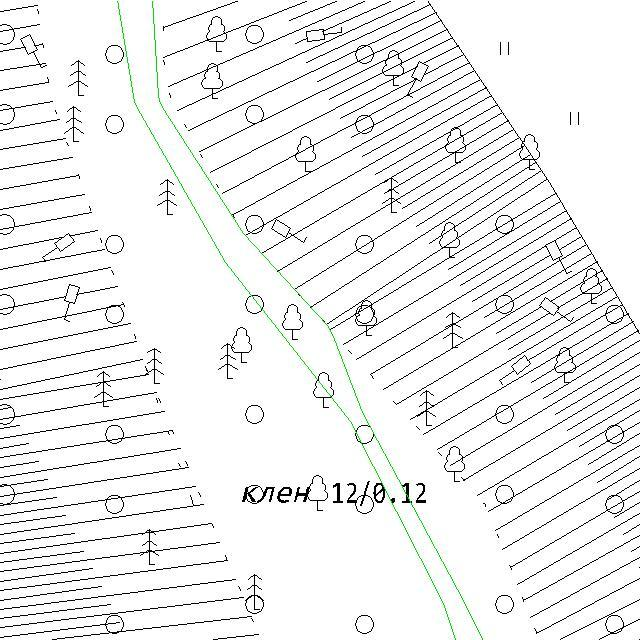sing: (497, 353, 533, 387), (39, 231, 77, 263), (544, 238, 574, 277), (270, 217, 308, 247), (19, 33, 48, 71), (538, 296, 575, 324), (405, 61, 431, 99), (61, 282, 82, 324), (305, 24, 345, 44)
tree: (578, 266, 604, 305), (380, 48, 406, 87), (292, 134, 318, 173), (442, 444, 467, 484), (92, 366, 115, 408), (243, 571, 266, 613), (62, 104, 86, 144), (306, 473, 330, 513), (200, 62, 225, 100), (204, 15, 229, 53), (312, 369, 335, 410), (280, 302, 304, 341), (354, 298, 378, 337), (144, 345, 166, 387), (67, 58, 90, 98), (216, 342, 240, 380), (230, 326, 254, 364), (553, 346, 577, 384), (437, 221, 461, 259), (443, 126, 467, 164), (441, 310, 464, 349), (156, 178, 179, 216), (518, 133, 541, 171), (139, 528, 161, 566), (380, 176, 402, 214), (416, 388, 437, 426)
